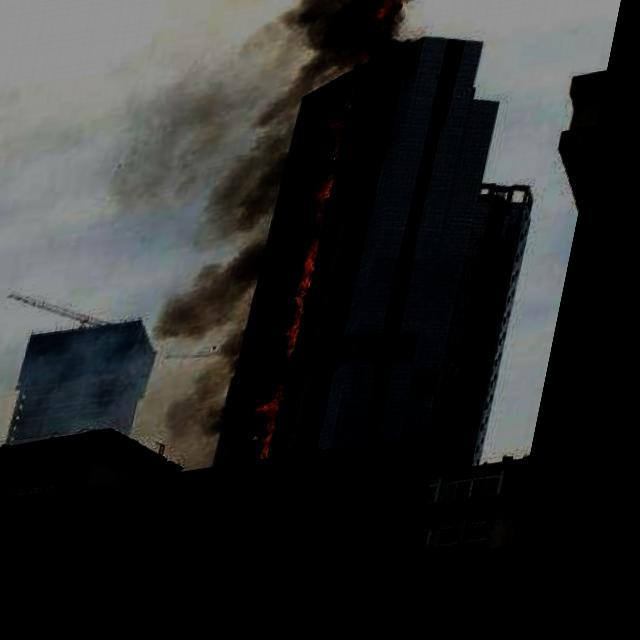Fire: (273, 80, 362, 471)
